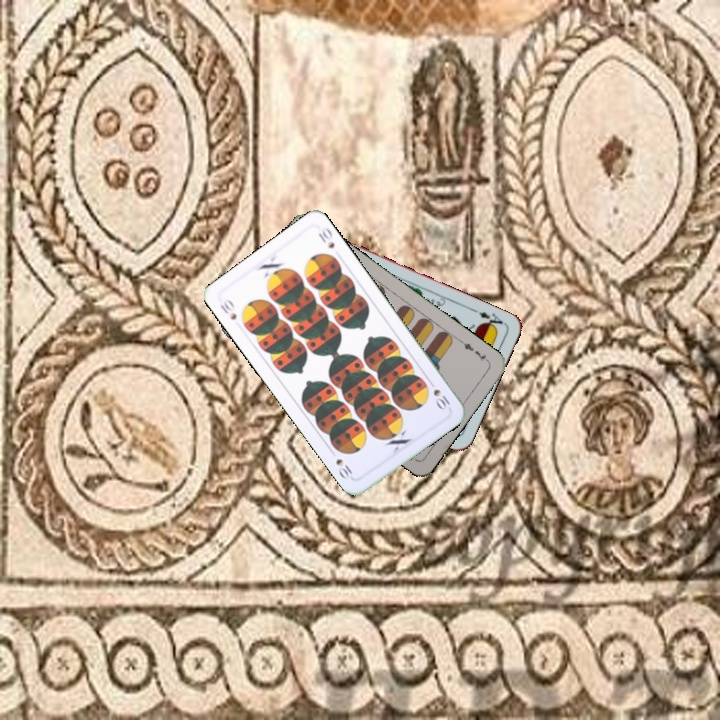E7: (456, 336, 492, 365)
EA: (469, 305, 505, 332)
S10: (429, 385, 453, 413), (216, 295, 239, 323)
